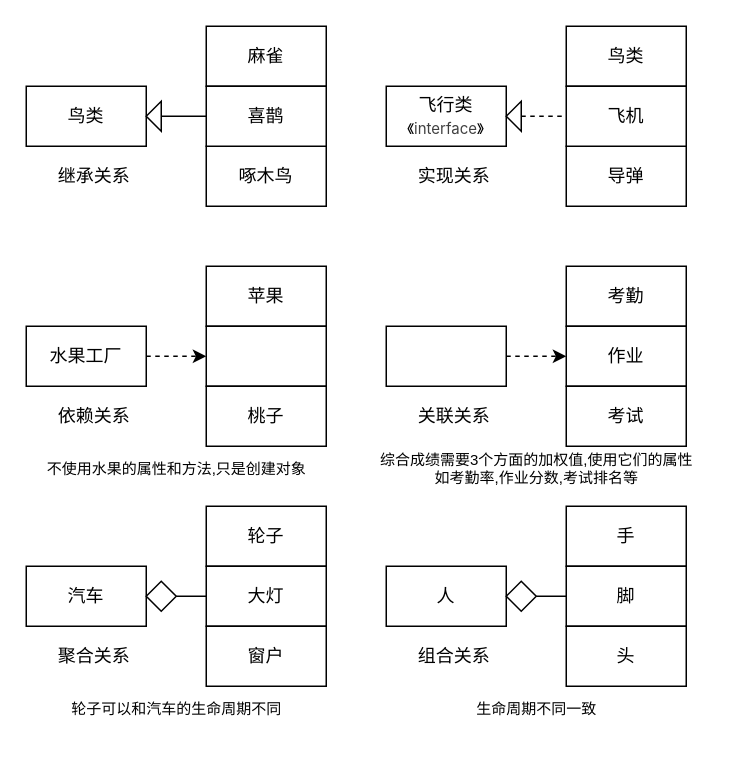
The diagram is 735 pixels wide and 758 high, and some of its shapes have lost their labels. The shapes that lost their labels are listed below. From the top down, each one's box as (x1, y1, x2, y2) in pixels, then its label:
(205, 325, 326, 386): 香蕉
(385, 325, 506, 386): 综合成绩
